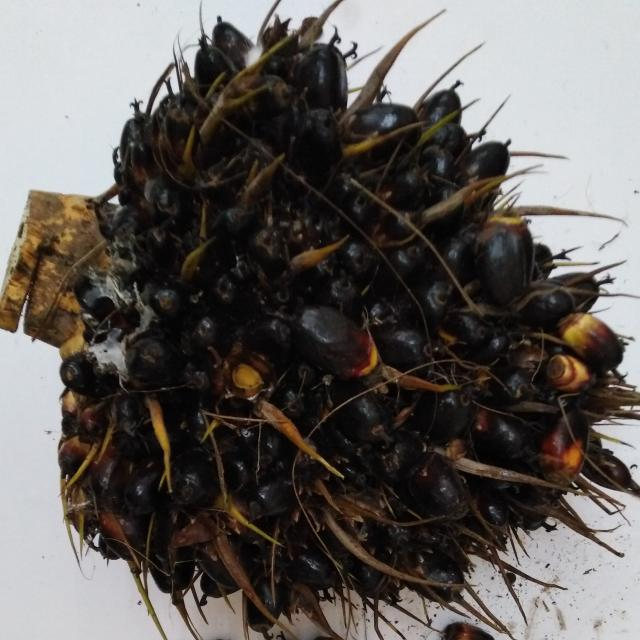FFB: (64, 13, 612, 608)
